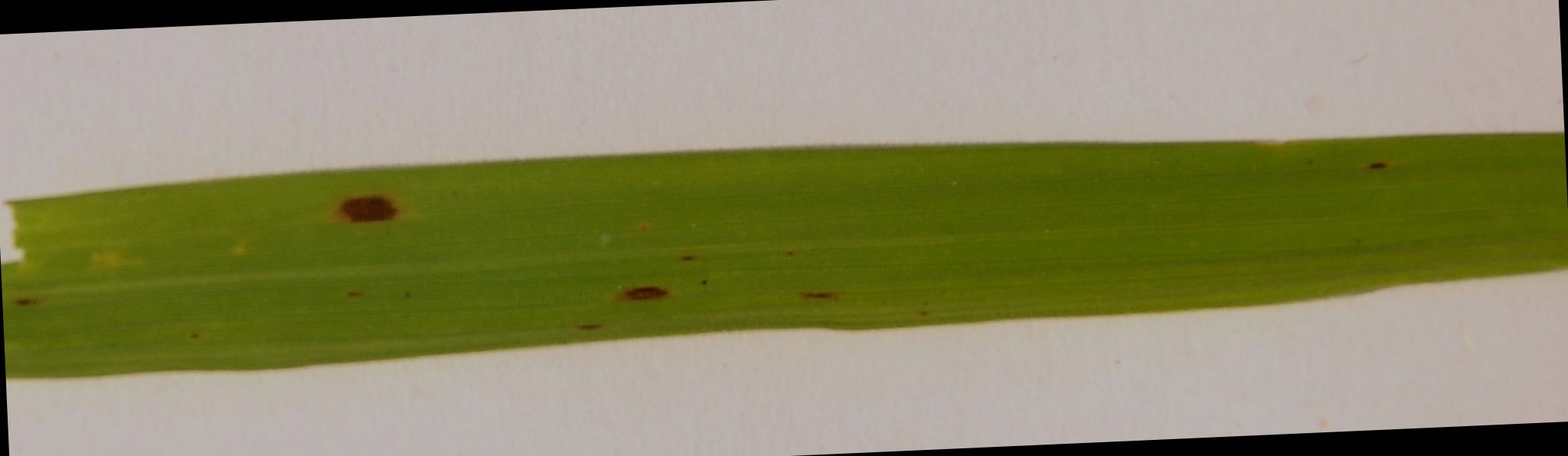Bacterial_Leaf_Blight: (332, 174, 414, 235), (3, 276, 80, 332), (768, 267, 858, 310), (607, 262, 671, 318), (1353, 138, 1405, 180)
